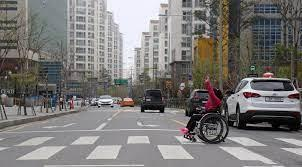wheelchair: (179, 76, 229, 144)
